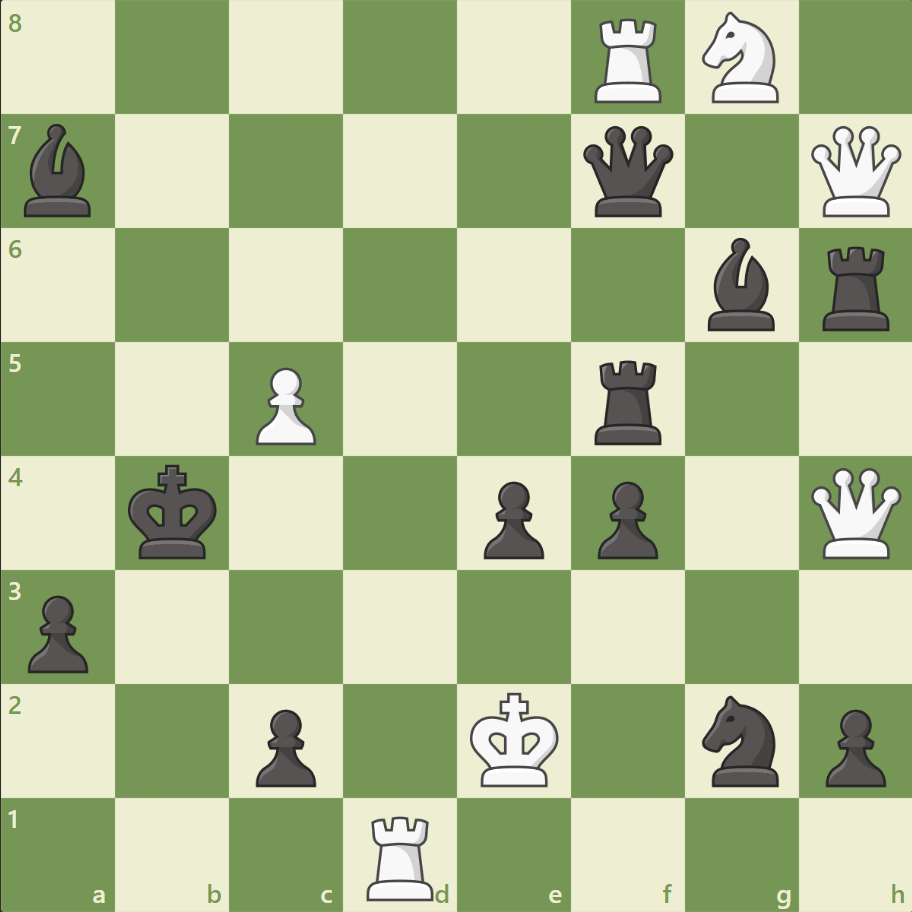K: (465, 685, 565, 793)
N: (692, 7, 789, 110)
P: (247, 359, 322, 450)
Q: (805, 122, 904, 222), (805, 463, 904, 562)
R: (587, 12, 670, 109), (360, 806, 442, 904)
b: (698, 233, 782, 336), (17, 120, 101, 222)
k: (124, 458, 224, 566)
n: (692, 688, 789, 791)
p: (474, 473, 549, 564), (20, 586, 95, 677), (247, 700, 322, 791), (588, 473, 662, 564), (815, 700, 889, 791)
q: (578, 122, 677, 222)
r: (814, 239, 897, 336), (587, 352, 670, 449)
